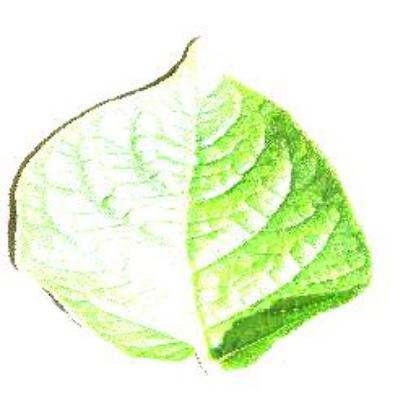Healthy-plant: (8, 39, 376, 375)
